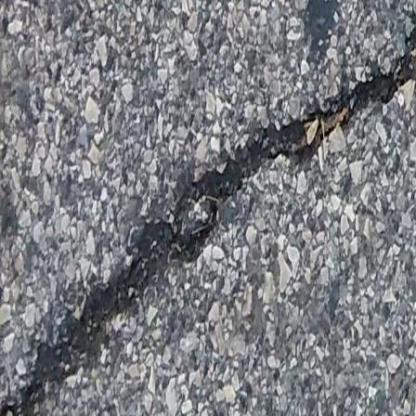Cracks: (1, 172, 257, 416), (176, 70, 376, 237), (341, 12, 416, 175)
